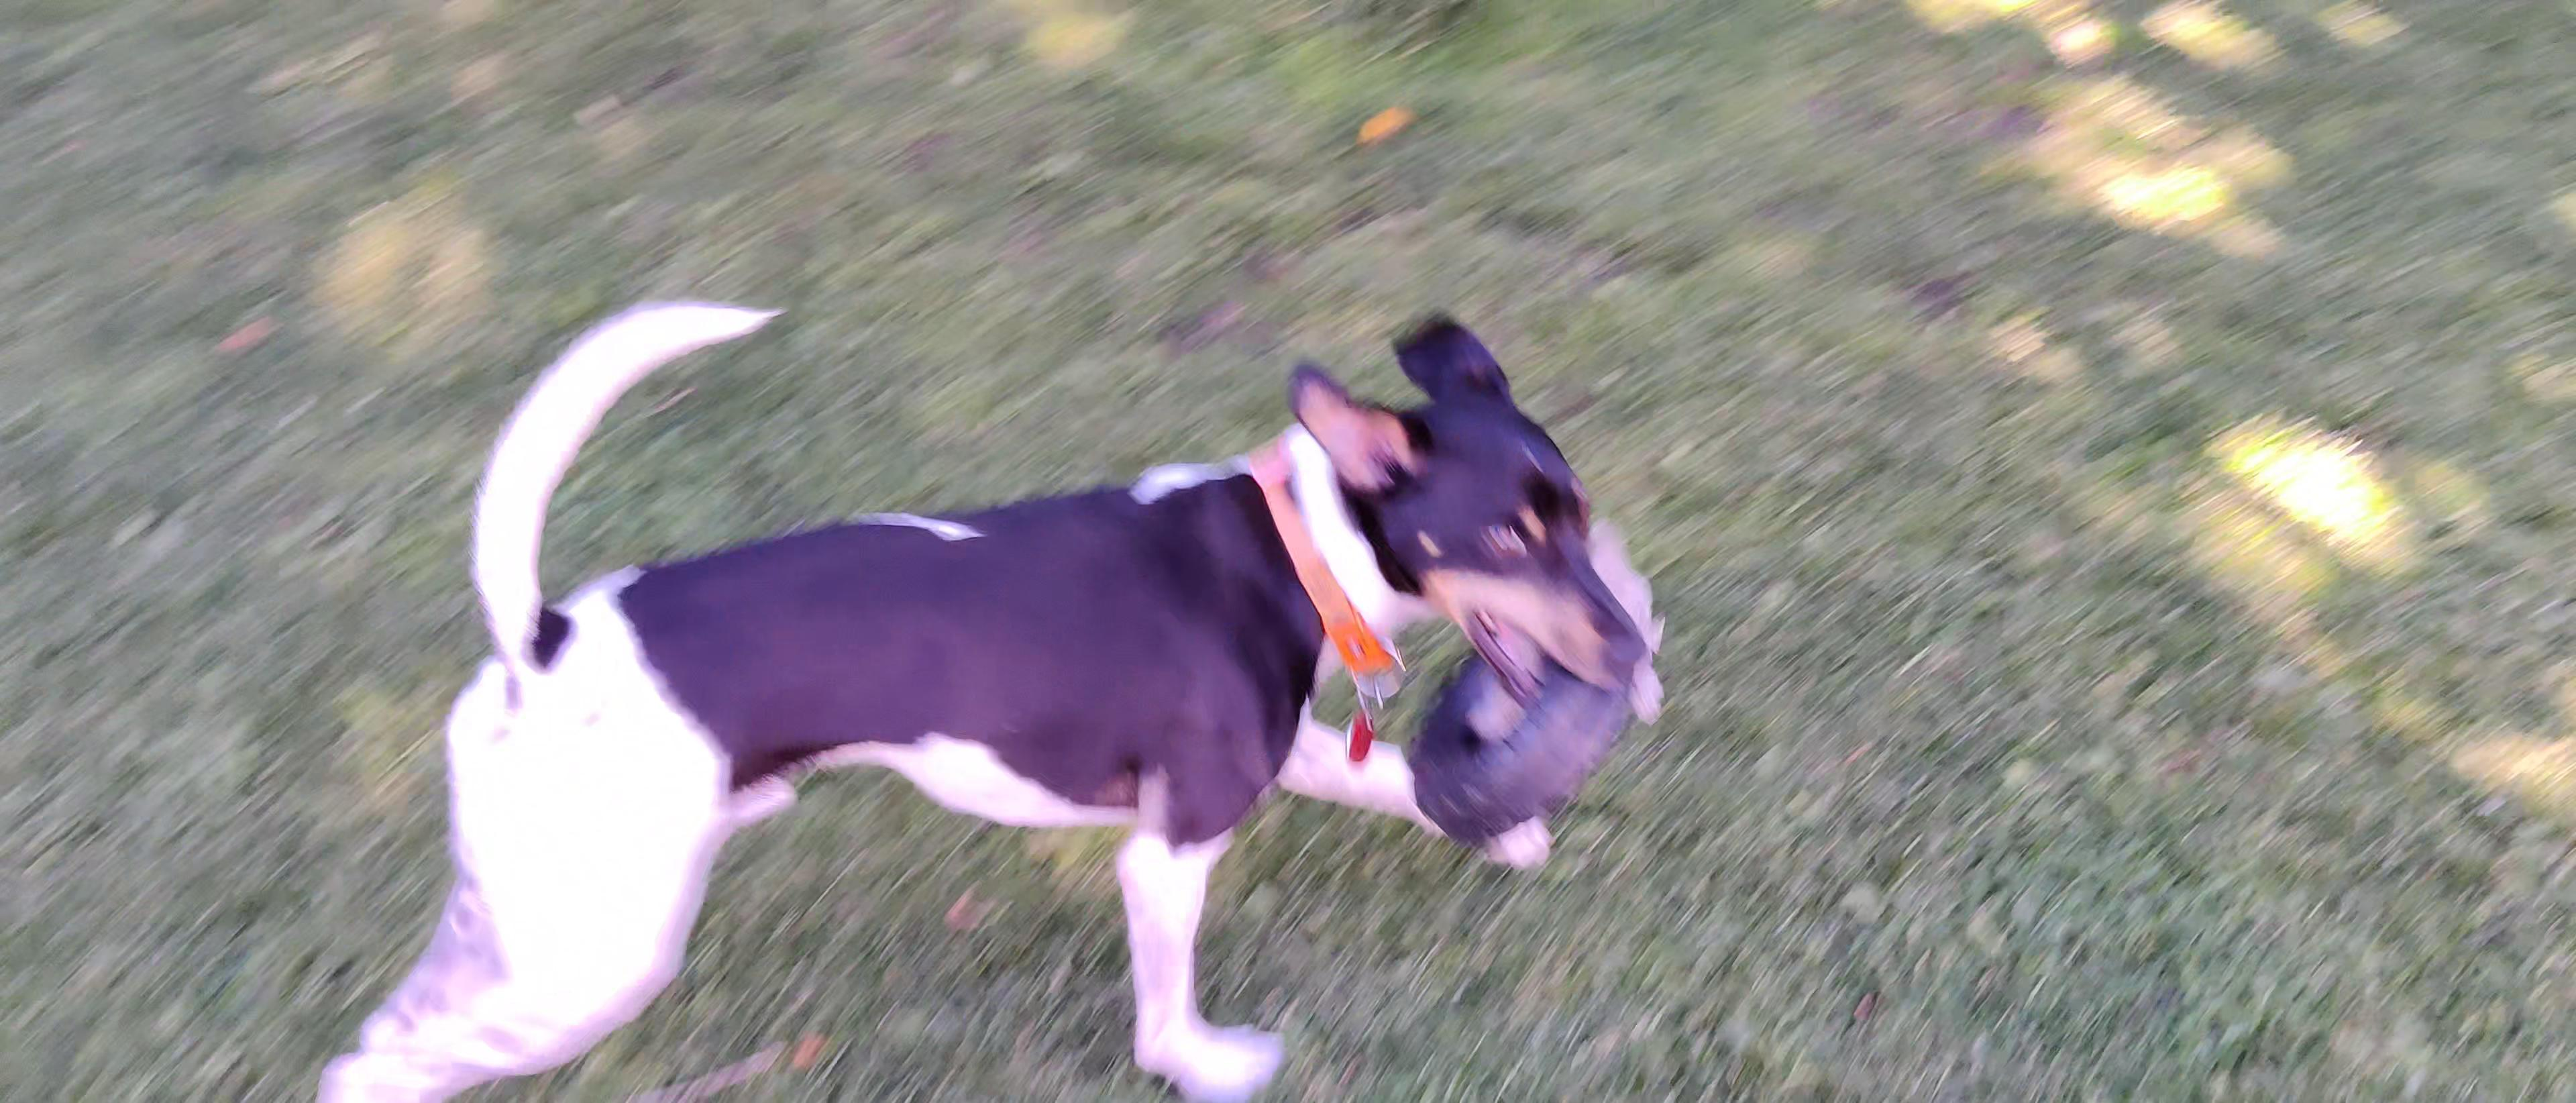Dog: (289, 281, 1664, 1103)
